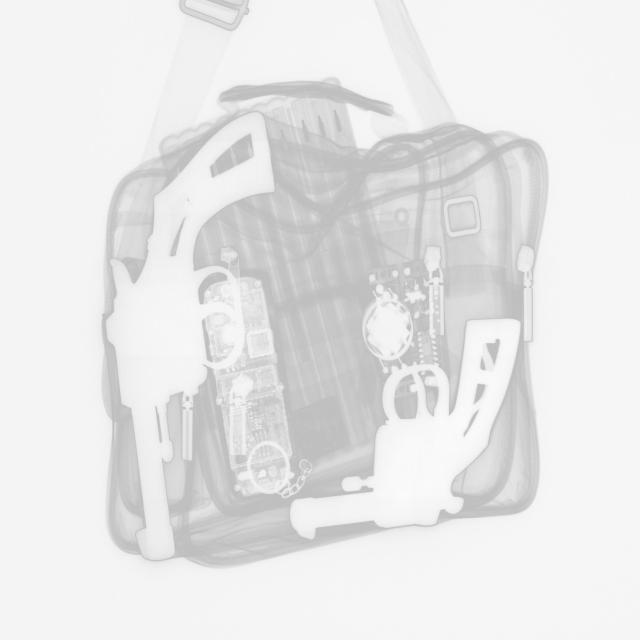pistol: (102, 102, 280, 566), (287, 313, 523, 541)
